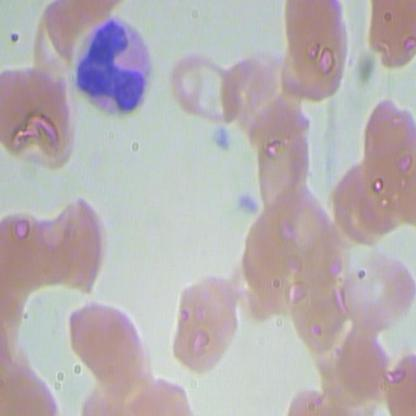Platelets: (205, 121, 235, 156), (230, 186, 260, 221)
RBC: (62, 297, 152, 393), (1, 62, 77, 173), (281, 1, 352, 100), (168, 275, 240, 372), (46, 192, 118, 289), (344, 241, 415, 338), (359, 100, 415, 217), (290, 233, 346, 350), (255, 108, 311, 225), (168, 49, 242, 130), (363, 1, 415, 75)
WBC: (69, 10, 157, 124)
